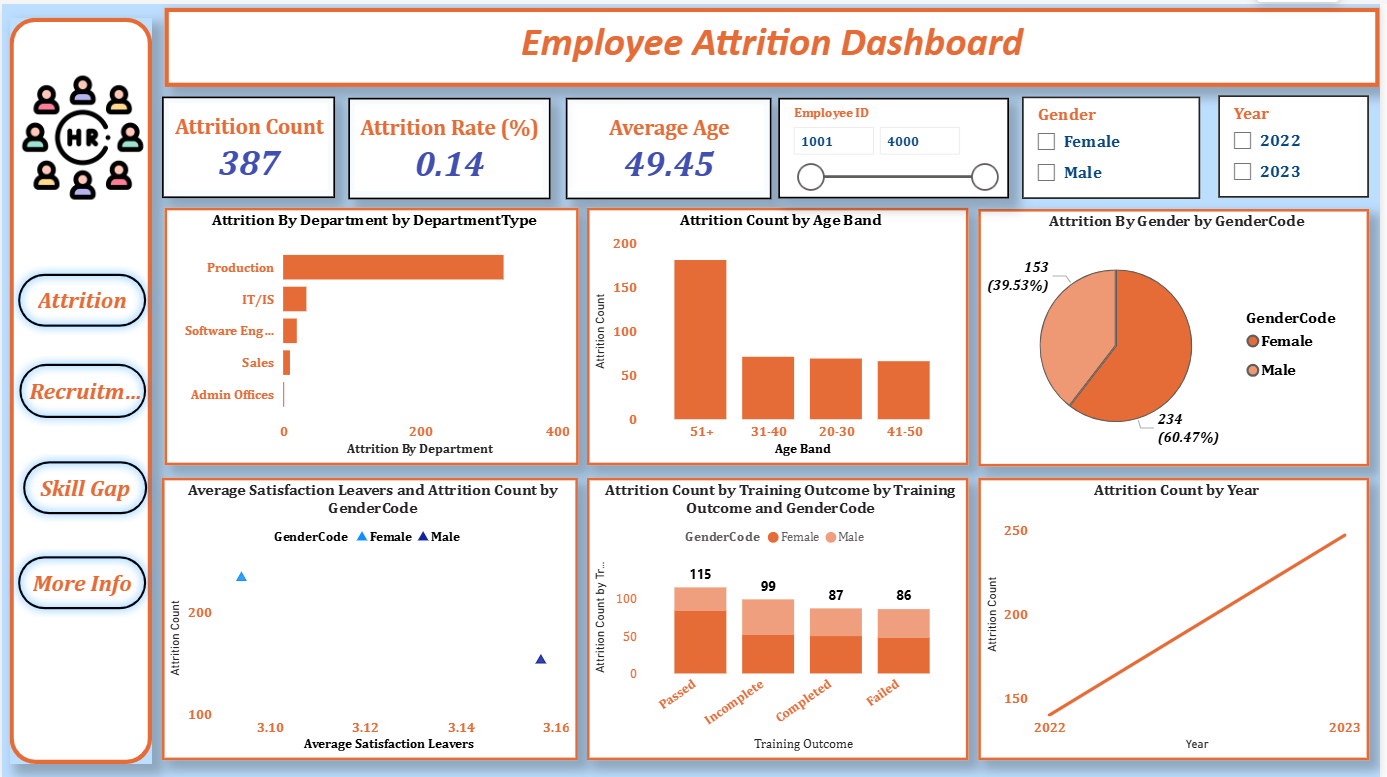

This screenshot's page, from the dashboard's own definition file:
{"tool":"powerbi","page":{"name":"Employee Attrition Dashboard","canvas":[1280,720],"ordinal":1},"visuals":[{"type":"shape","box":[7.4,12.3,132.5,693.3],"z":0},{"type":"textbox","box":[151.1,3.3,1128.9,73.3],"z":1000},{"type":"cardVisual","fields":{"Data":["HR_dataset.Attrition Count"]},"box":[148.9,85.6,161.1,94.4],"z":2000},{"type":"cardVisual","fields":{"Data":["HR_dataset.Attrition Rate (%)"]},"box":[321.1,86.7,187.8,94.4],"z":3000},{"type":"cardVisual","fields":{"Data":["HR_dataset.Average Age"]},"box":[523.3,86.7,191.1,94.4],"z":4000},{"type":"clusteredBarChart","fields":{"Y":["HR_dataset.Attrition By Department"],"Category":["HR_dataset.DepartmentType"]},"box":[151.1,188.9,384.4,238.9],"z":5000},{"type":"clusteredColumnChart","fields":{"Y":["HR_dataset.Attrition Count"],"Category":["HR_dataset.Age Band"]},"box":[543.3,188.9,354.4,238.9],"z":6000},{"type":"pieChart","fields":{"Y":["HR_dataset.Attrition By Gender"],"Category":["HR_dataset.GenderCode"]},"box":[906.7,190,363.3,238.9],"z":7000},{"type":"scatterChart","fields":{"Y":["HR_dataset.Attrition Count"],"X":["HR_dataset.Average Satisfaction Leavers"],"Series":["HR_dataset.GenderCode"]},"box":[148.9,440,386.7,262.2],"z":8000},{"type":"columnChart","fields":{"Category":["HR_dataset.Training Outcome"],"Y":["HR_dataset.Attrition Count by Training Outcome"],"Series":["HR_dataset.GenderCode"]},"box":[543.3,440,354.4,262.2],"z":9000},{"type":"lineChart","fields":{"Y":["HR_dataset.Attrition Count"],"Category":["HR_dataset.Survey Date.Variation.Date Hierarchy.Year"]},"box":[906.7,440,363.3,262.2],"z":10000},{"type":"slicer","fields":{"Values":["HR_dataset.Employee ID"]},"box":[721.1,86.7,214.4,93.3],"z":11000},{"type":"slicer","fields":{"Values":["HR_dataset.GenderCode"]},"box":[947.8,85.6,165.6,95.6],"z":12000},{"type":"slicer","fields":{"Values":["HR_dataset.Survey Date.Variation.Date Hierarchy.Year"]},"box":[1130,84.4,140,95.6],"z":13000},{"type":"actionButton","box":[7.4,242.9,135,65],"z":14000},{"type":"actionButton","box":[8.6,326.4,133.7,66.3],"z":15000},{"type":"actionButton","box":[11,417.2,131.3,65],"z":16000},{"type":"actionButton","box":[7.4,505.5,135,65],"z":17000},{"type":"image","box":[17.2,20.9,115.3,206.1],"z":18000}]}

Visuals, with their boxes in screenshot pixels (x1, y1, x2, y2), scaled from the page's 1280x720 canvas onto the 1387x777 screenshot:
shape: crop(8, 13, 152, 761)
textbox: crop(164, 4, 1386, 83)
cardVisual - HR_dataset.Attrition Count: crop(161, 92, 336, 194)
cardVisual - HR_dataset.Attrition Rate (%): crop(348, 94, 551, 195)
cardVisual - HR_dataset.Average Age: crop(567, 94, 774, 195)
clusteredBarChart - HR_dataset.Attrition By Department x HR_dataset.DepartmentType: crop(164, 204, 580, 462)
clusteredColumnChart - HR_dataset.Attrition Count x HR_dataset.Age Band: crop(589, 204, 973, 462)
pieChart - HR_dataset.Attrition By Gender x HR_dataset.GenderCode: crop(982, 205, 1376, 463)
scatterChart - HR_dataset.Attrition Count x HR_dataset.Average Satisfaction Leavers: crop(161, 475, 580, 758)
columnChart - HR_dataset.Training Outcome x HR_dataset.Attrition Count by Training Outcome: crop(589, 475, 973, 758)
lineChart - HR_dataset.Attrition Count x HR_dataset.Survey Date.Variation.Date Hierarchy.Year: crop(982, 475, 1376, 758)
slicer - HR_dataset.Employee ID: crop(781, 94, 1014, 194)
slicer - HR_dataset.GenderCode: crop(1027, 92, 1206, 196)
slicer - HR_dataset.Survey Date.Variation.Date Hierarchy.Year: crop(1224, 91, 1376, 194)
actionButton: crop(8, 262, 154, 332)
actionButton: crop(9, 352, 154, 424)
actionButton: crop(12, 450, 154, 520)
actionButton: crop(8, 546, 154, 616)
image: crop(19, 23, 144, 245)
